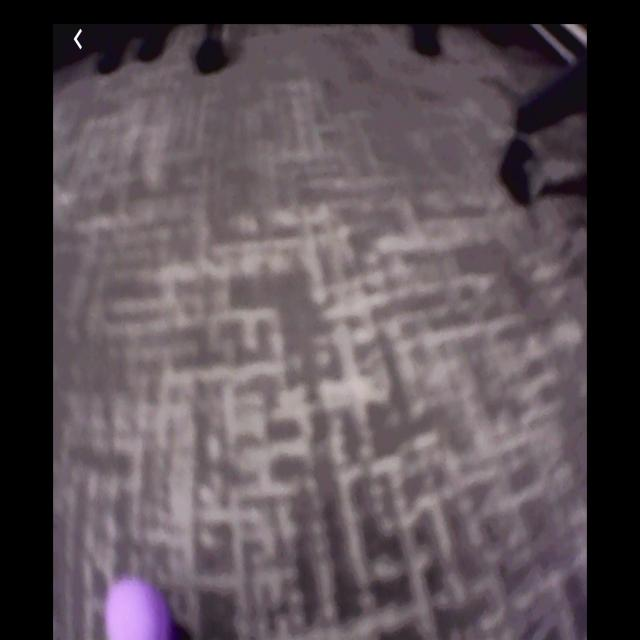ball: (102, 576, 173, 640)
